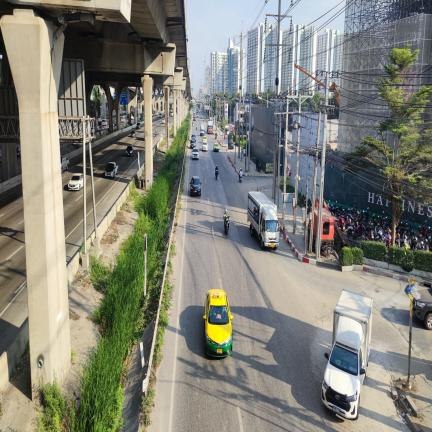car: (68, 174, 83, 191), (190, 176, 201, 196), (61, 156, 69, 174), (126, 145, 134, 156), (190, 138, 196, 149), (202, 141, 208, 151), (130, 130, 136, 138), (202, 136, 207, 143), (191, 134, 196, 140), (161, 118, 165, 124), (136, 123, 140, 129), (159, 113, 162, 118), (17, 147, 18, 152), (20, 150, 20, 155)
human: (223, 209, 229, 219)
motorbike: (224, 217, 229, 234), (215, 170, 218, 179), (239, 174, 242, 183)
pickup: (105, 162, 119, 177), (61, 156, 69, 174), (192, 147, 199, 159)
taxi: (203, 290, 233, 357), (213, 142, 219, 152), (202, 136, 207, 143)
truck: (321, 290, 373, 419), (247, 192, 279, 250), (207, 121, 213, 134), (200, 123, 205, 136)
